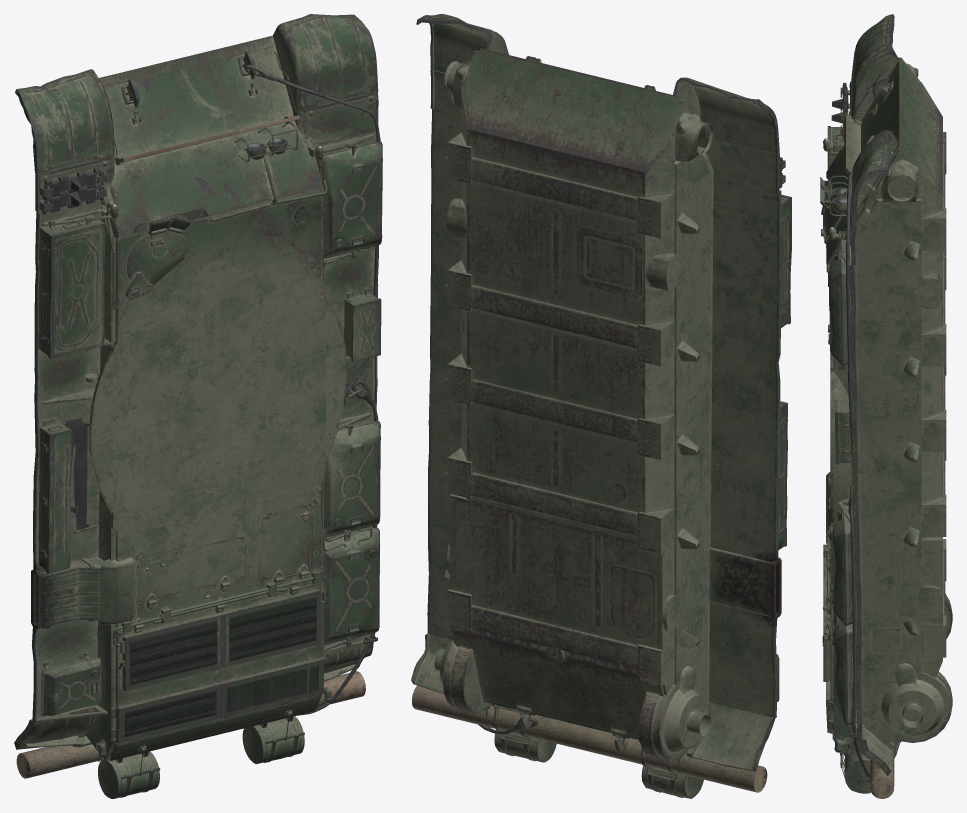
The model's file is Hull.glb.
3 renders of one model, left to right at view 1: azimuth 30°, elevation 25°; view 2: azimuth 150°, elevation 25°; view 3: azimuth 270°, elevation 25°, orthographic. The views are drawn at different scales.
Parts seen in each view (by area): view 1: set_0_group_0; view 2: set_0_group_0; view 3: set_0_group_0.
Boxes of the visible parts, x1,y1,x2,y2 form: set_0_group_0: (14,14,382,798); set_0_group_0: (411,14,791,798); set_0_group_0: (820,14,952,798).
Size of the model in its own units: 3.29 by 6.62 by 1.19.
Materials: 1 (1 with a texture image).
